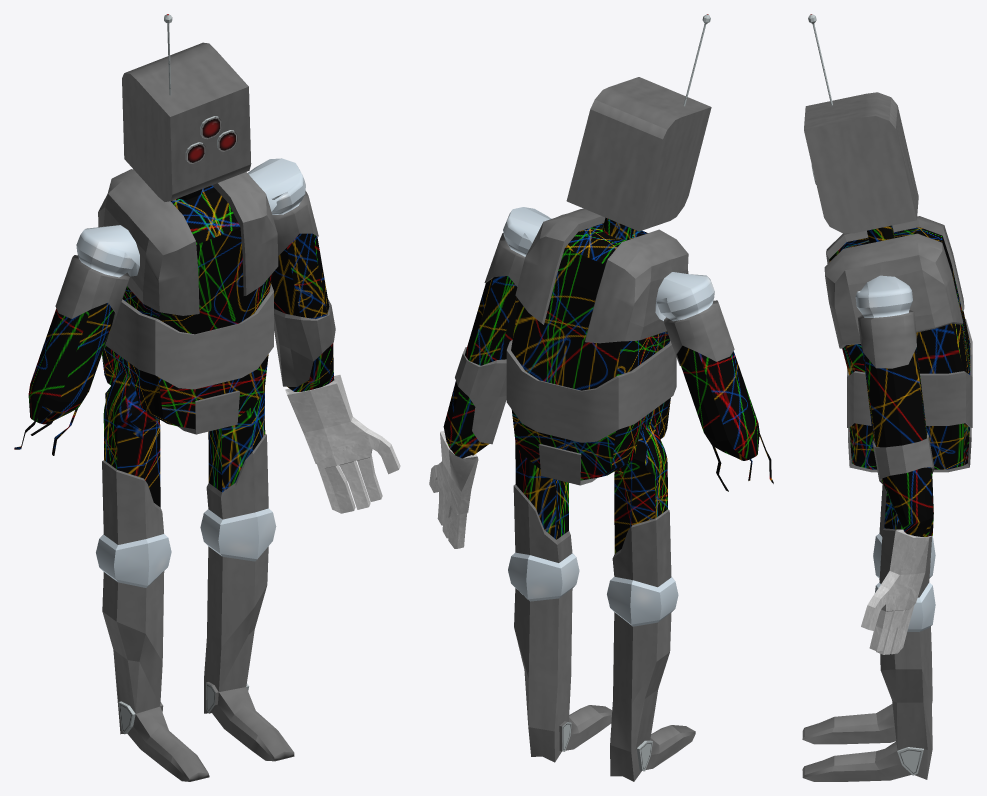
File: RobotIdle2.obj
3 views of the same model, side by side, from view 1: azimuth 30°, elevation 25°; view 2: azimuth 150°, elevation 25°; view 3: azimuth 270°, elevation 25° (orthographic). The views are drawn at different scales.
Parts seen in each view (by area): view 1: Robot; view 2: Robot; view 3: Robot.
Boxes of the visible parts, <box> form: Robot: <box>14,14,400,781</box>; Robot: <box>429,14,773,781</box>; Robot: <box>802,14,972,781</box>.
Size of the model in its own units: 7.89 by 15.51 by 3.36.
